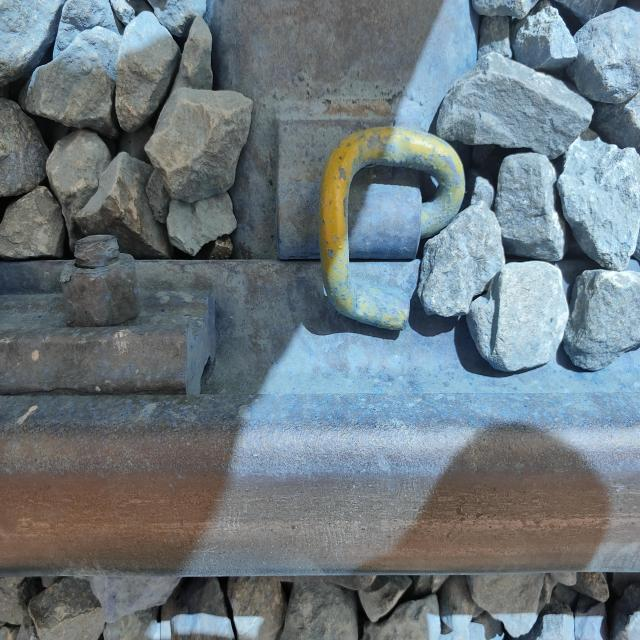Good Fasteners: (270, 95, 470, 347)
